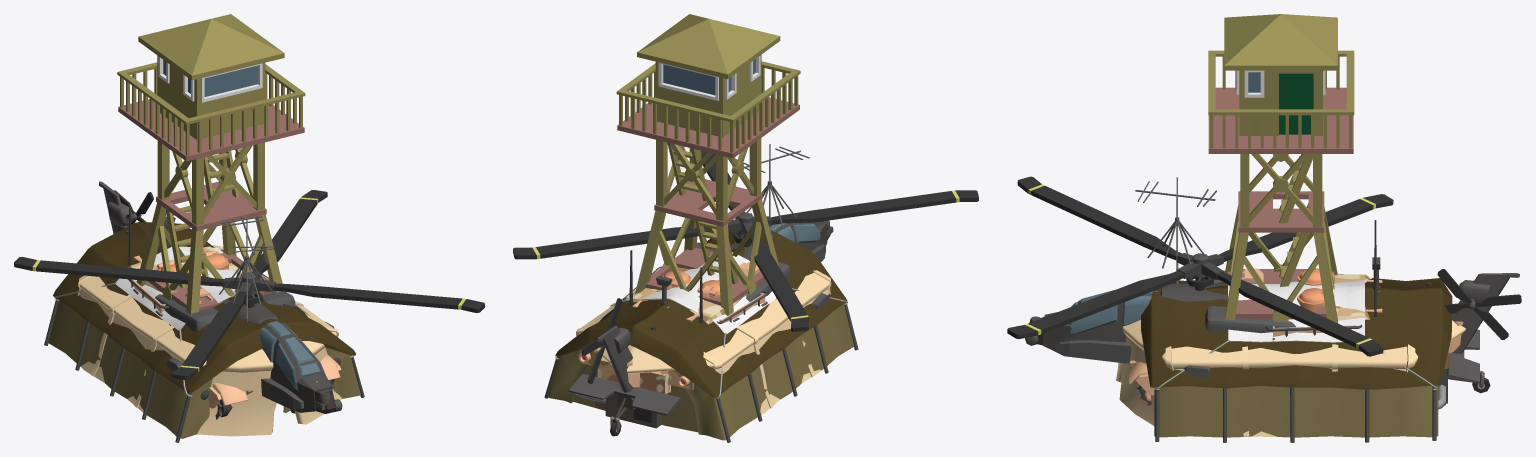
File: assets.glb
3 views of the same model, side by side, from view 1: azimuth 30°, elevation 25°; view 2: azimuth 150°, elevation 25°; view 3: azimuth 270°, elevation 25° (orthographic). The views are drawn at different scales.
Parts seen in each view (by area): view 1: Tower_003, Tent_002, Blade_001, Tent_010, Helicopter_001, Tank_tower_006, Tank_006, Radiostation_001; view 2: Tower_003, Tent_002, Blade_001, Tent_010, Helicopter_001, Tank_tower_006, Tank_006, Radiostation_001, Blade_002; view 3: Tent_002, Tower_003, Blade_001, Helicopter_001, Tent_010, Tank_tower_006, Blade_002, Radiostation_001, Tank_006.
Boxes of the visible parts, box(x1,y1,x2,y2) form: Tower_003: box(117, 14, 305, 314); Tent_002: box(44, 222, 364, 442); Blade_001: box(14, 190, 484, 379); Tent_010: box(77, 230, 341, 436); Helicopter_001: box(99, 181, 342, 413); Tank_tower_006: box(127, 207, 269, 316); Tank_006: box(208, 354, 341, 408); Radiostation_001: box(219, 216, 274, 322); Tower_003: box(616, 14, 800, 315); Tent_002: box(544, 230, 858, 442); Blade_001: box(513, 151, 978, 331); Tent_010: box(575, 270, 831, 428); Helicopter_001: box(568, 220, 833, 436); Tank_tower_006: box(623, 250, 767, 324); Tank_006: box(578, 349, 693, 393); Radiostation_001: box(736, 144, 809, 231); Blade_002: box(581, 298, 622, 384); Tent_002: box(1141, 278, 1452, 442); Tower_003: box(1208, 14, 1354, 323); Blade_001: box(1007, 176, 1393, 356); Helicopter_001: box(1025, 270, 1519, 393); Tent_010: box(1116, 282, 1465, 436); Tank_tower_006: box(1241, 220, 1382, 340); Blade_002: box(1437, 269, 1521, 339); Radiostation_001: box(1135, 177, 1216, 283); Tank_006: box(1129, 321, 1463, 395).
Bounding box in the file's own units: 11.47 × 12.46 × 15.28.
13 materials, 6 textured.
